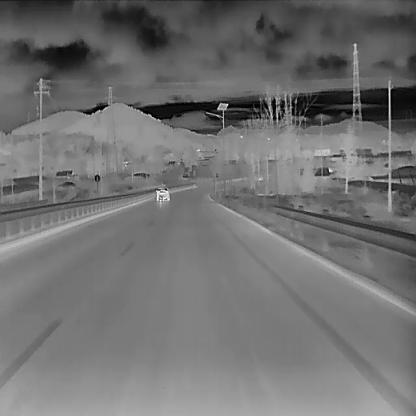car: (155, 185, 170, 200)
